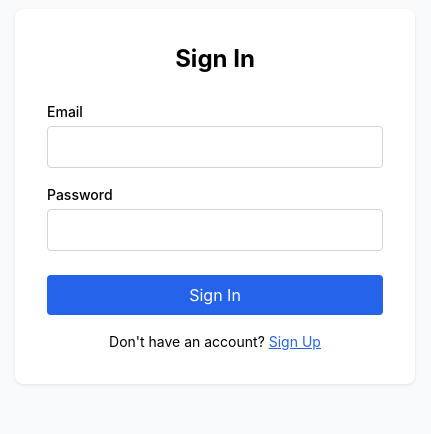
Test: SignIn › shows error message when sign in fails
Type "test@example.com" into the field labelled "Email" at (215, 146), box [47,126,383,168]
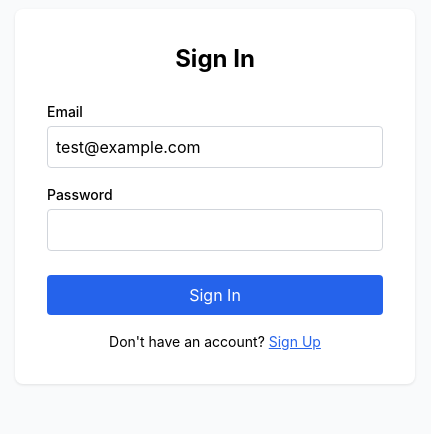
Type "wrong" into the password field labelled "Password" at (215, 230), box [47,208,383,250]
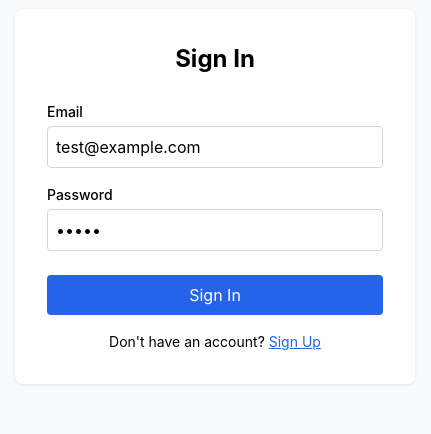
Click the button "Sign In" at (215, 294), box [47,274,383,314]
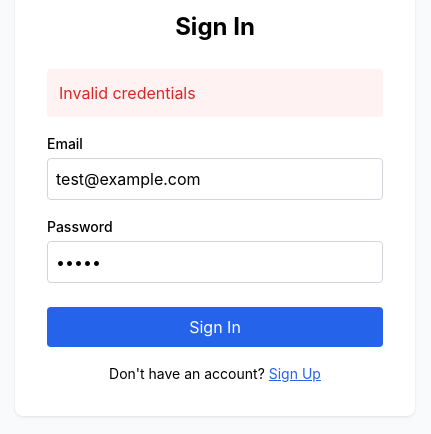
Check: the text "Invalid credentials" is shown, box [47,68,383,116]
